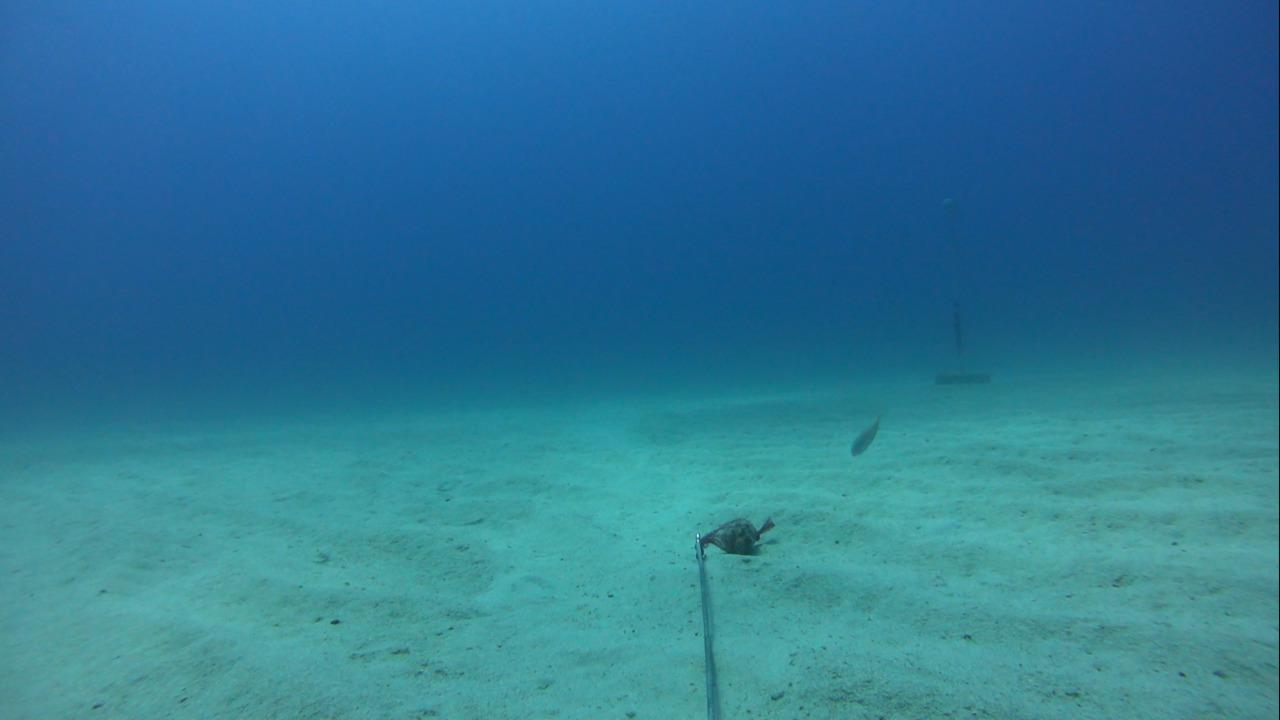raor: (842, 405, 889, 460)
